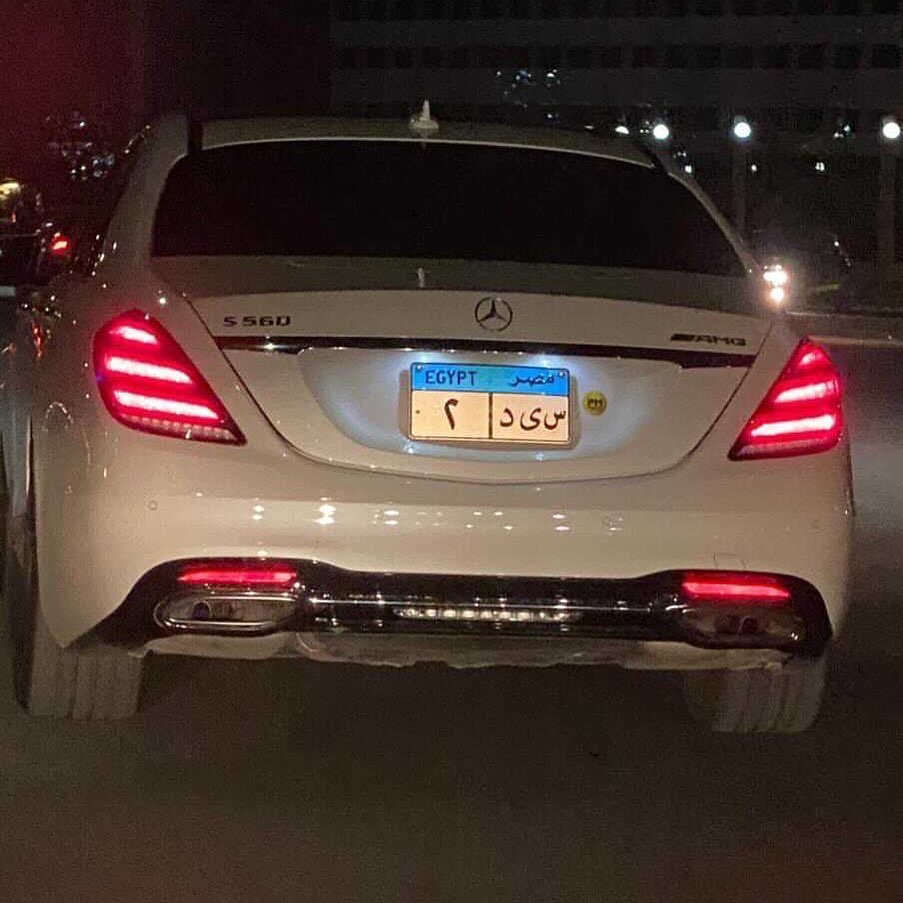carpl: (402, 351, 572, 460)
